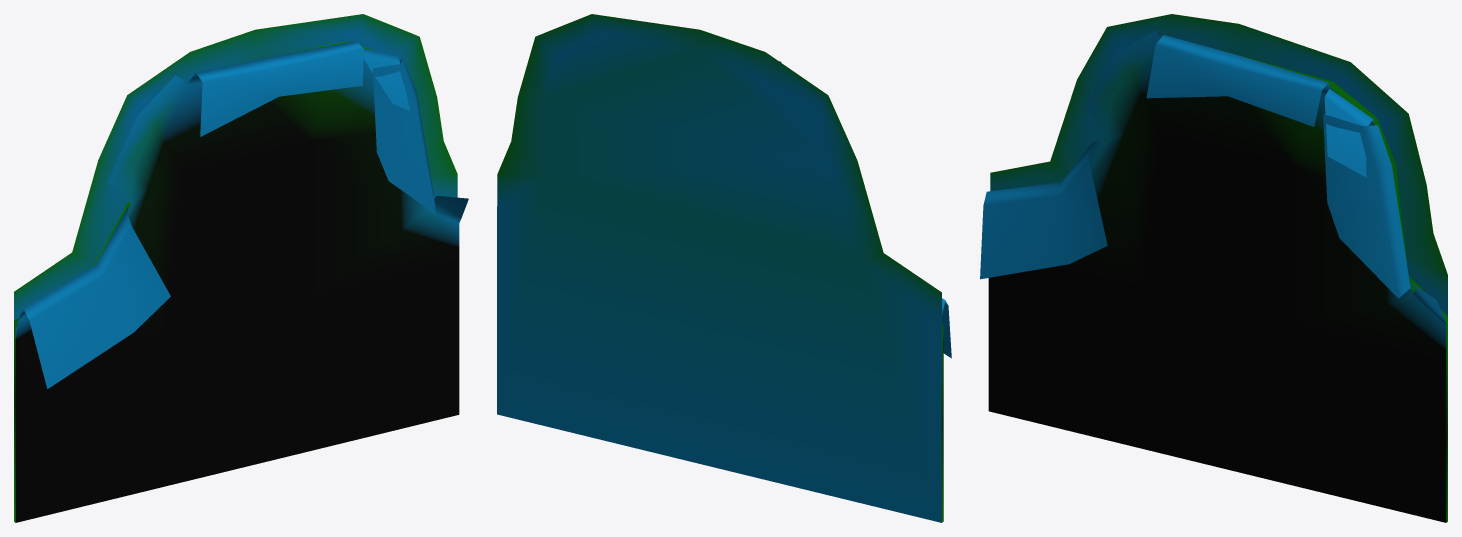
Rendered from DBK_Drywall_Tile_D_Single.fbx.
The picture shows the model from 3 angles, left to right: view 1: azimuth 30°, elevation 25°; view 2: azimuth 150°, elevation 25°; view 3: azimuth 330°, elevation 25°; orthographic projection. The views are drawn at different scales.
Visible parts, largest first — view 1: DBK_Drywall_Tile_D_Single; view 2: DBK_Drywall_Tile_D_Single; view 3: DBK_Drywall_Tile_D_Single.
Boxes of the visible parts, bbox=[...] form: DBK_Drywall_Tile_D_Single: bbox=[14, 14, 468, 522]; DBK_Drywall_Tile_D_Single: bbox=[497, 14, 951, 522]; DBK_Drywall_Tile_D_Single: bbox=[980, 14, 1447, 522].
Size of what is drawn, in the model's own units: 301 by 280 by 30.18.
